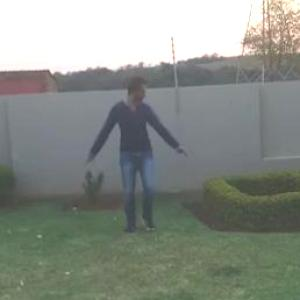land: (58, 71, 197, 266)
